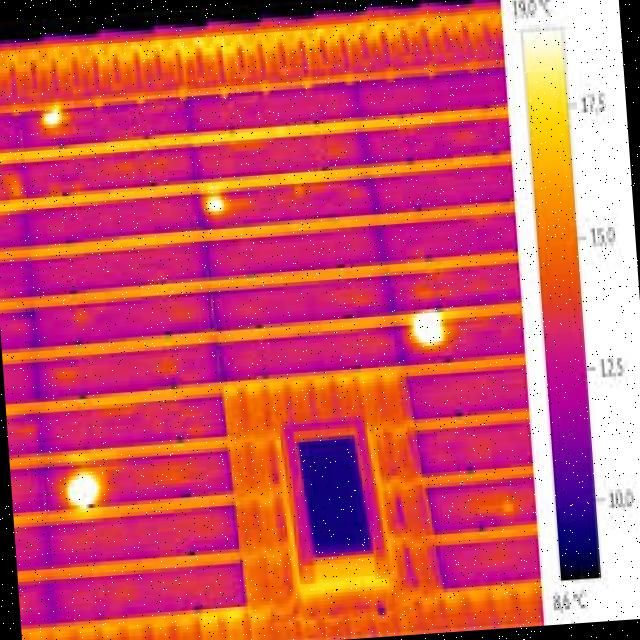Hotspot: (405, 300, 455, 350), (63, 467, 106, 512), (200, 188, 229, 222), (34, 102, 62, 136)
